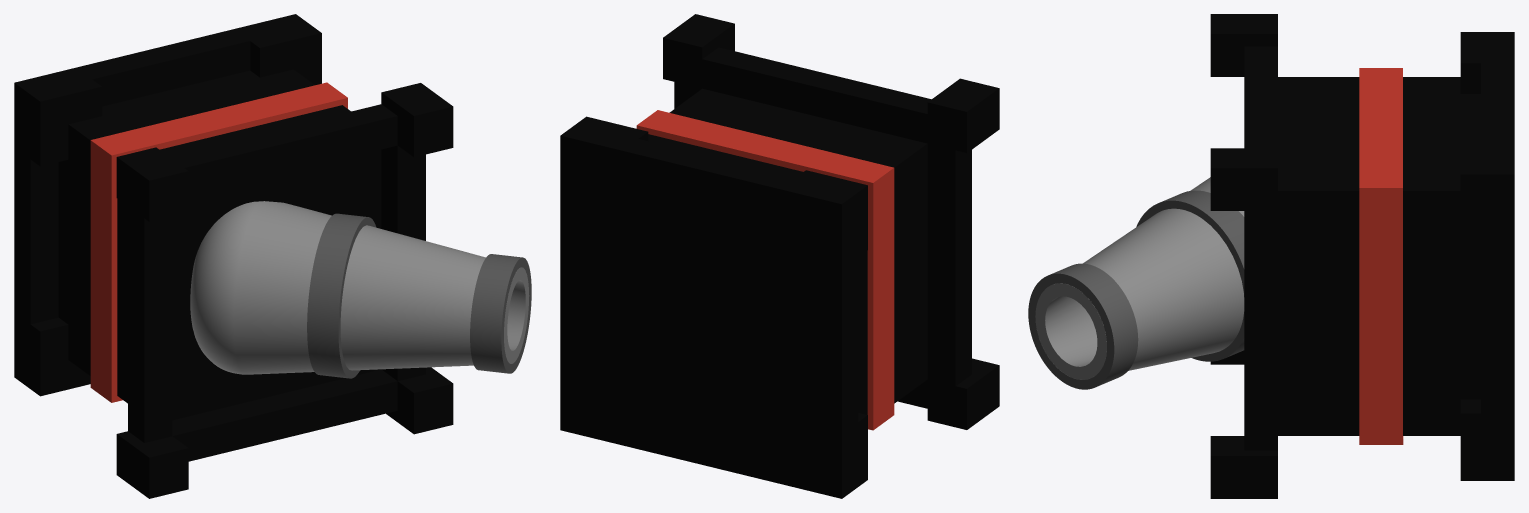
The model's file is Cannon Body and Base.fbx.
3 views of the same model, side by side, from view 1: azimuth 30°, elevation 25°; view 2: azimuth 150°, elevation 25°; view 3: azimuth 270°, elevation 25° (orthographic). The views are drawn at different scales.
Parts seen in each view (by area): view 1: Body17, Body37, Body34, Body38, Body39; view 2: Body17, Body34; view 3: Body17, Body37, Body34, Body39, Body38.
Boxes of the visible parts, x1=… form: Body17: x1=14, y1=14, x2=453, y2=498; Body37: x1=190, y1=201, x2=529, y2=374; Body34: x1=90, y1=82, x2=347, y2=402; Body38: x1=307, y1=213, x2=376, y2=378; Body39: x1=470, y1=254, x2=531, y2=373; Body17: x1=560, y1=14, x2=999, y2=498; Body34: x1=636, y1=110, x2=894, y2=430; Body17: x1=1210, y1=14, x2=1514, y2=498; Body37: x1=1035, y1=177, x2=1244, y2=379; Body34: x1=1359, y1=68, x2=1403, y2=444; Body39: x1=1028, y1=263, x2=1138, y2=389; Body38: x1=1136, y1=190, x2=1244, y2=361.
Size of the model in its own units: 59.68 by 54 by 71.97.
